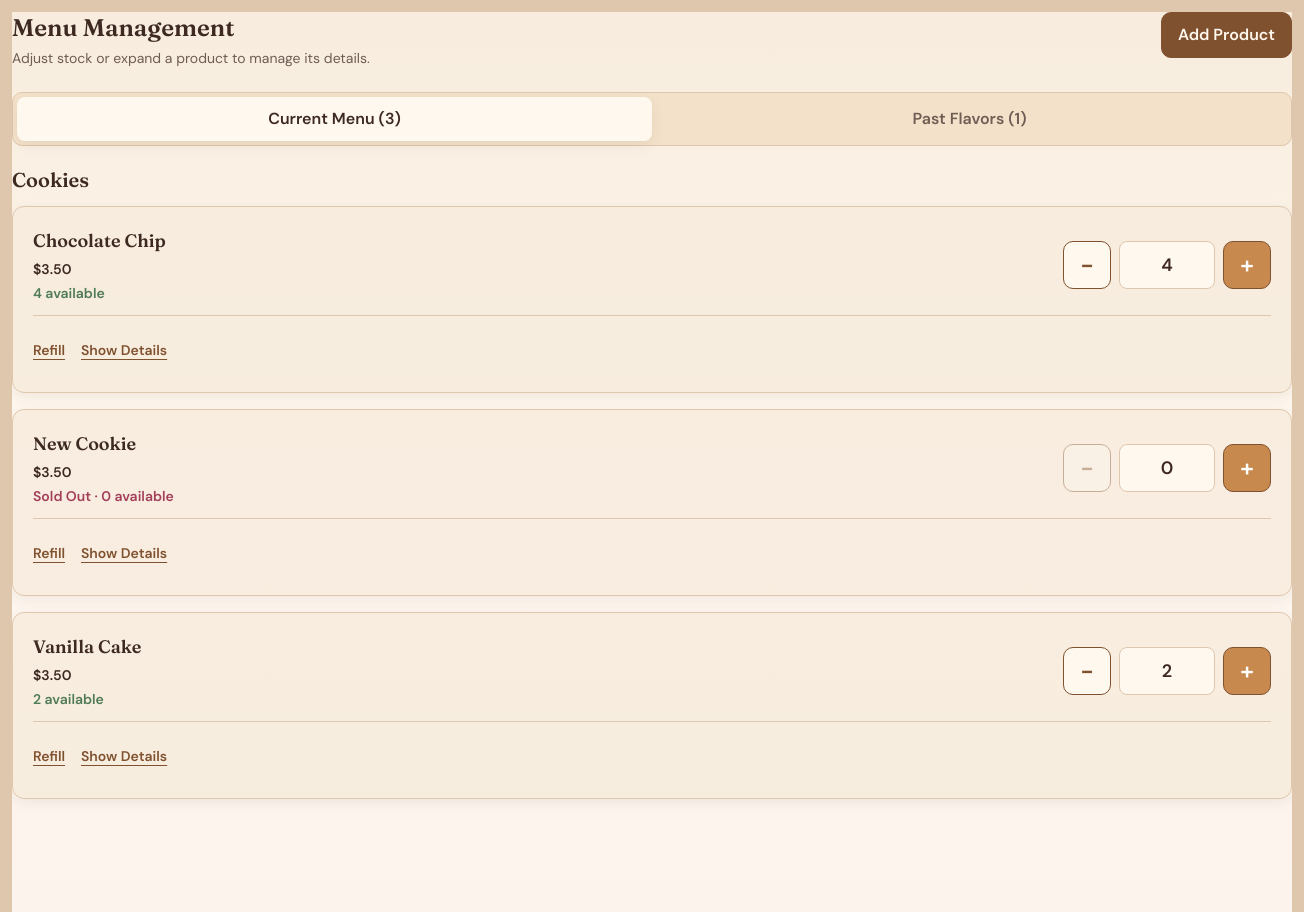
Test: Menu Management stock editor › clears a quantity validation error when stock is corrected with an adjustment
Expected: the heading "Menu Management" is shown, x1=12 y1=13 x2=234 y2=42
Step 1. Replace the text in the field named "Chocolate Chip quantity" with "1.5" → (1167, 265), box x1=1119 y1=241 x2=1215 y2=289
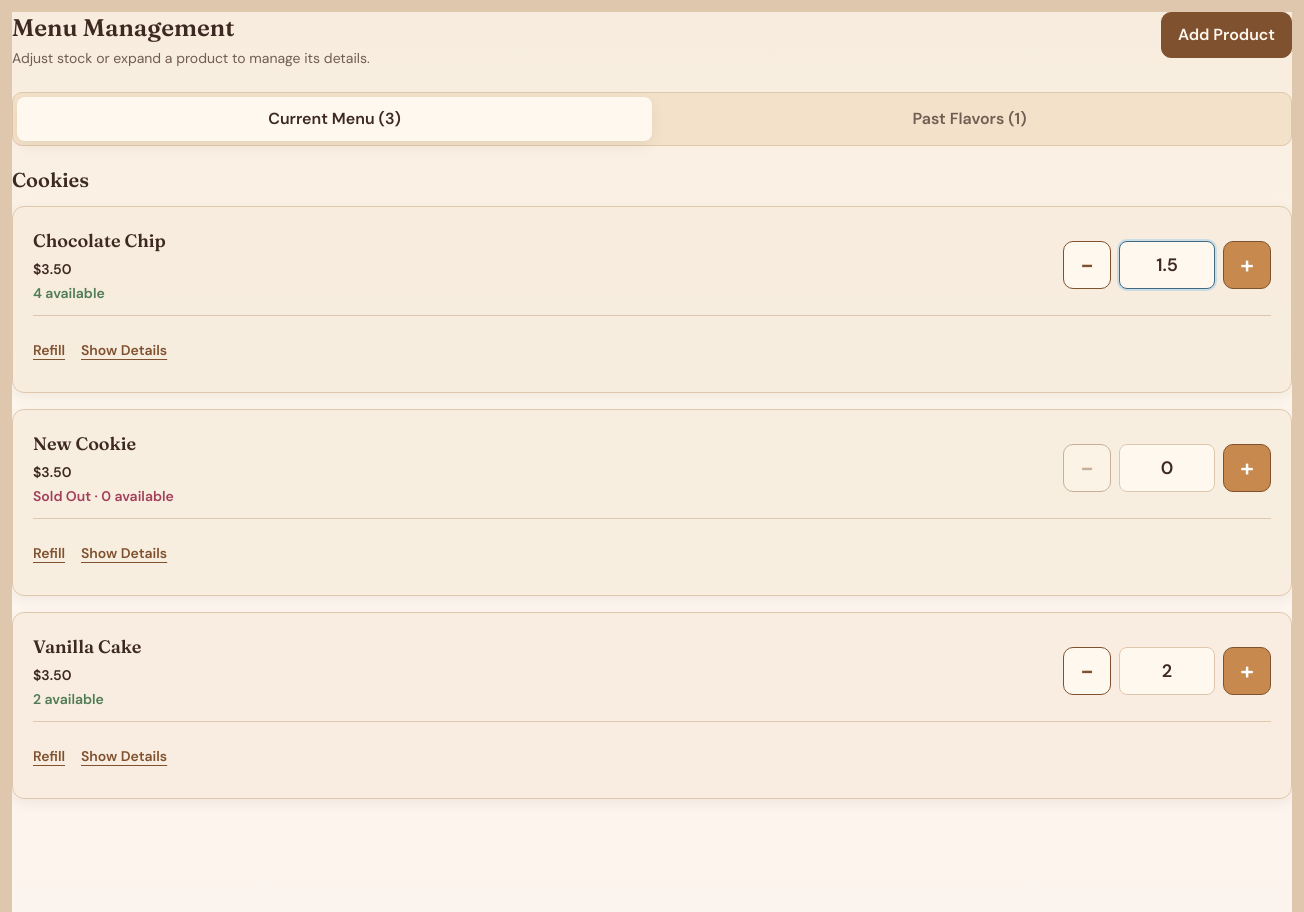
Step 2. Press Tab
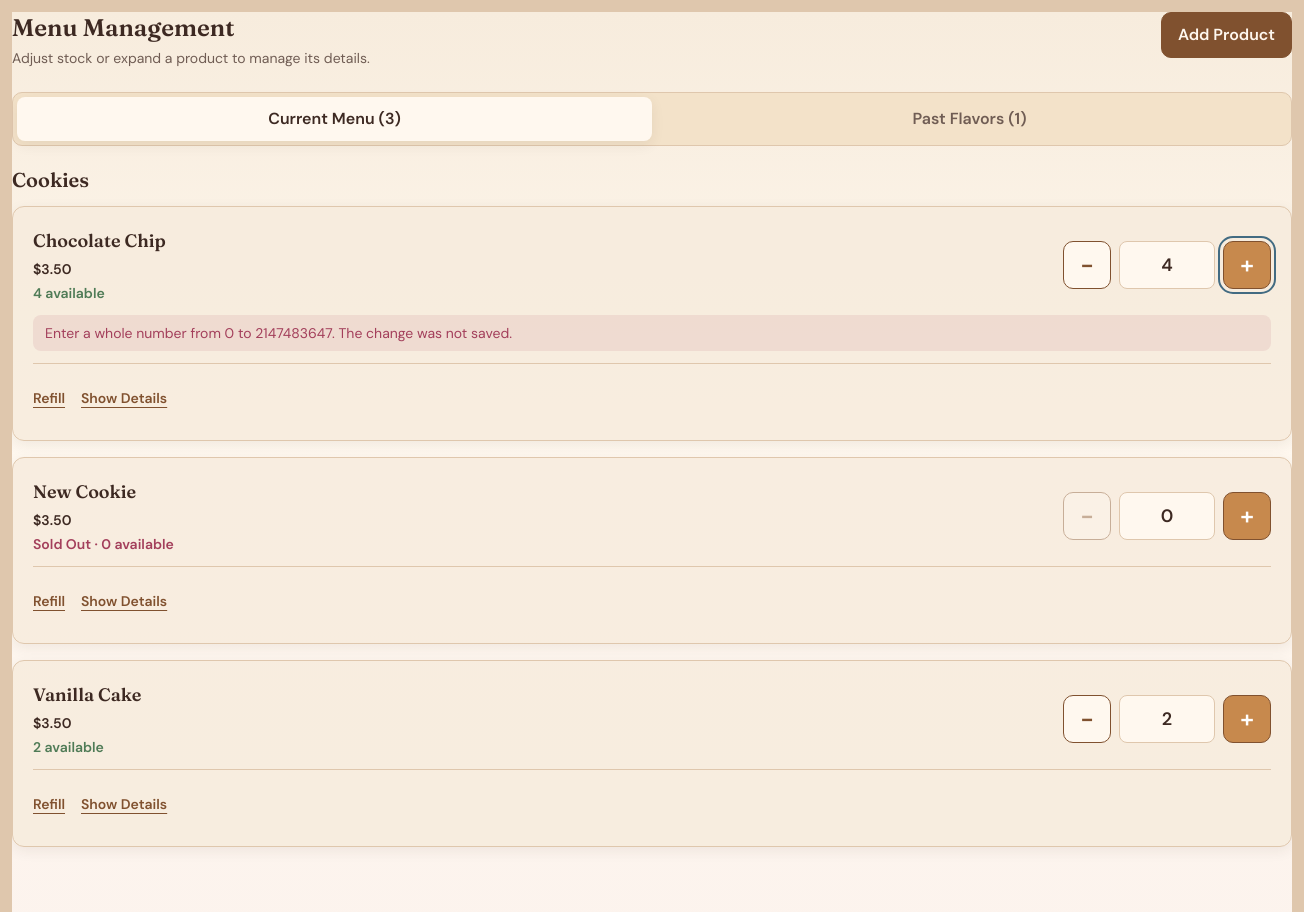
Result: the message "Enter a whole number from 0 to 2147483647. The change was not saved." is shown at x1=33 y1=315 x2=1271 y2=351
Step 3. Click the button named "Add one Chocolate Chip" → (1247, 265), box x1=1223 y1=241 x2=1271 y2=289
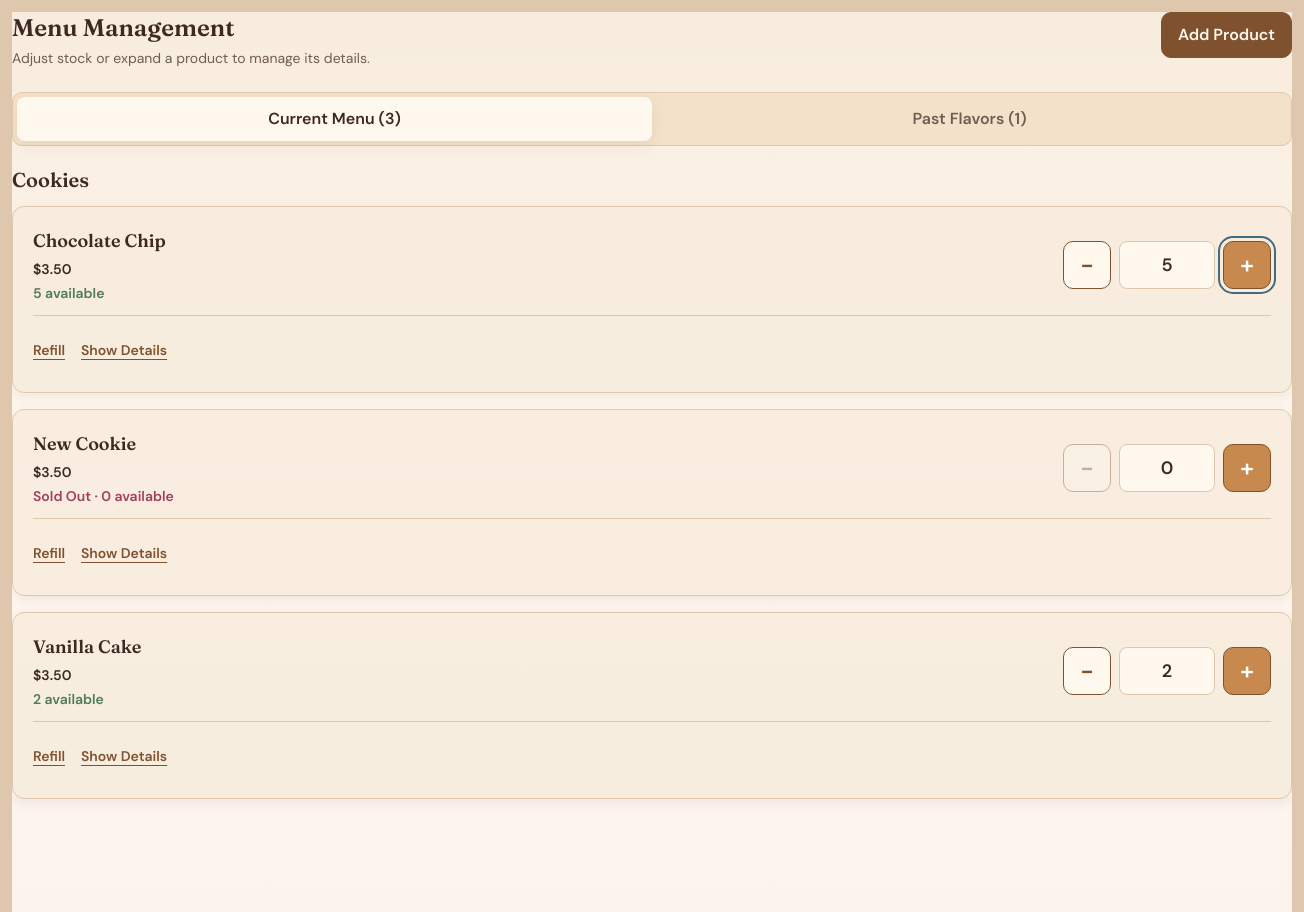
Result: the field named "Chocolate Chip quantity" holds "5" at x1=1119 y1=241 x2=1215 y2=289
Result: the message "Enter a whole number from 0 to 2147483647. The change was not saved." is gone
